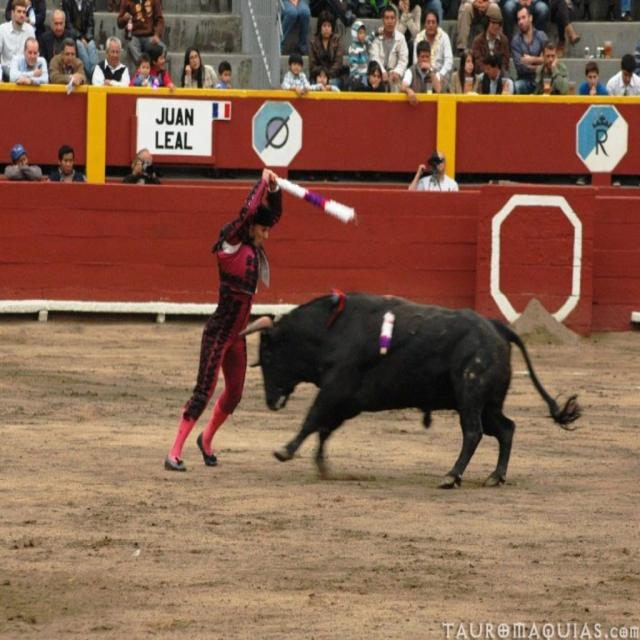Bull: (239, 290, 581, 485)
